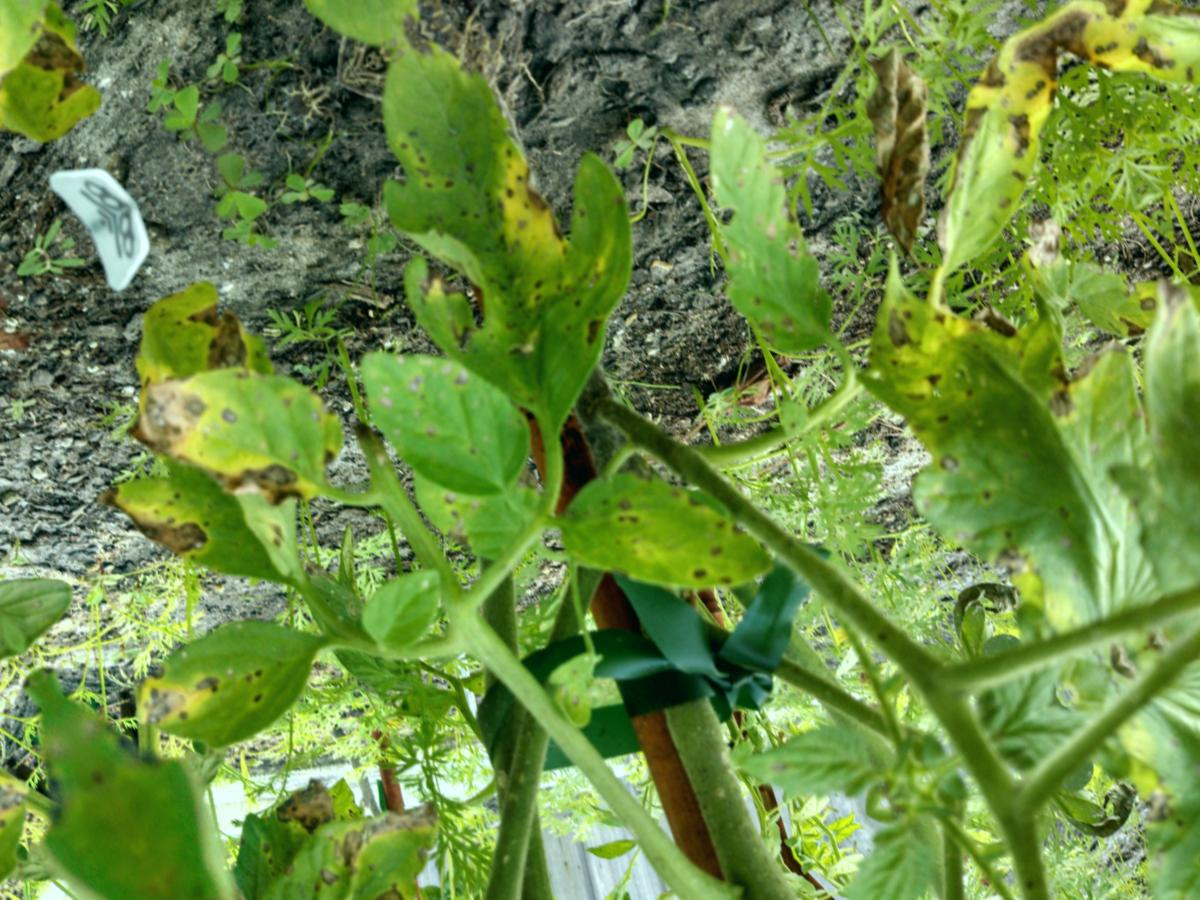Tomato Septoria leaf spot: (275, 0, 718, 478), (606, 47, 919, 424), (135, 304, 400, 589), (56, 394, 325, 671), (527, 404, 790, 664), (325, 291, 565, 552), (109, 586, 345, 798)
